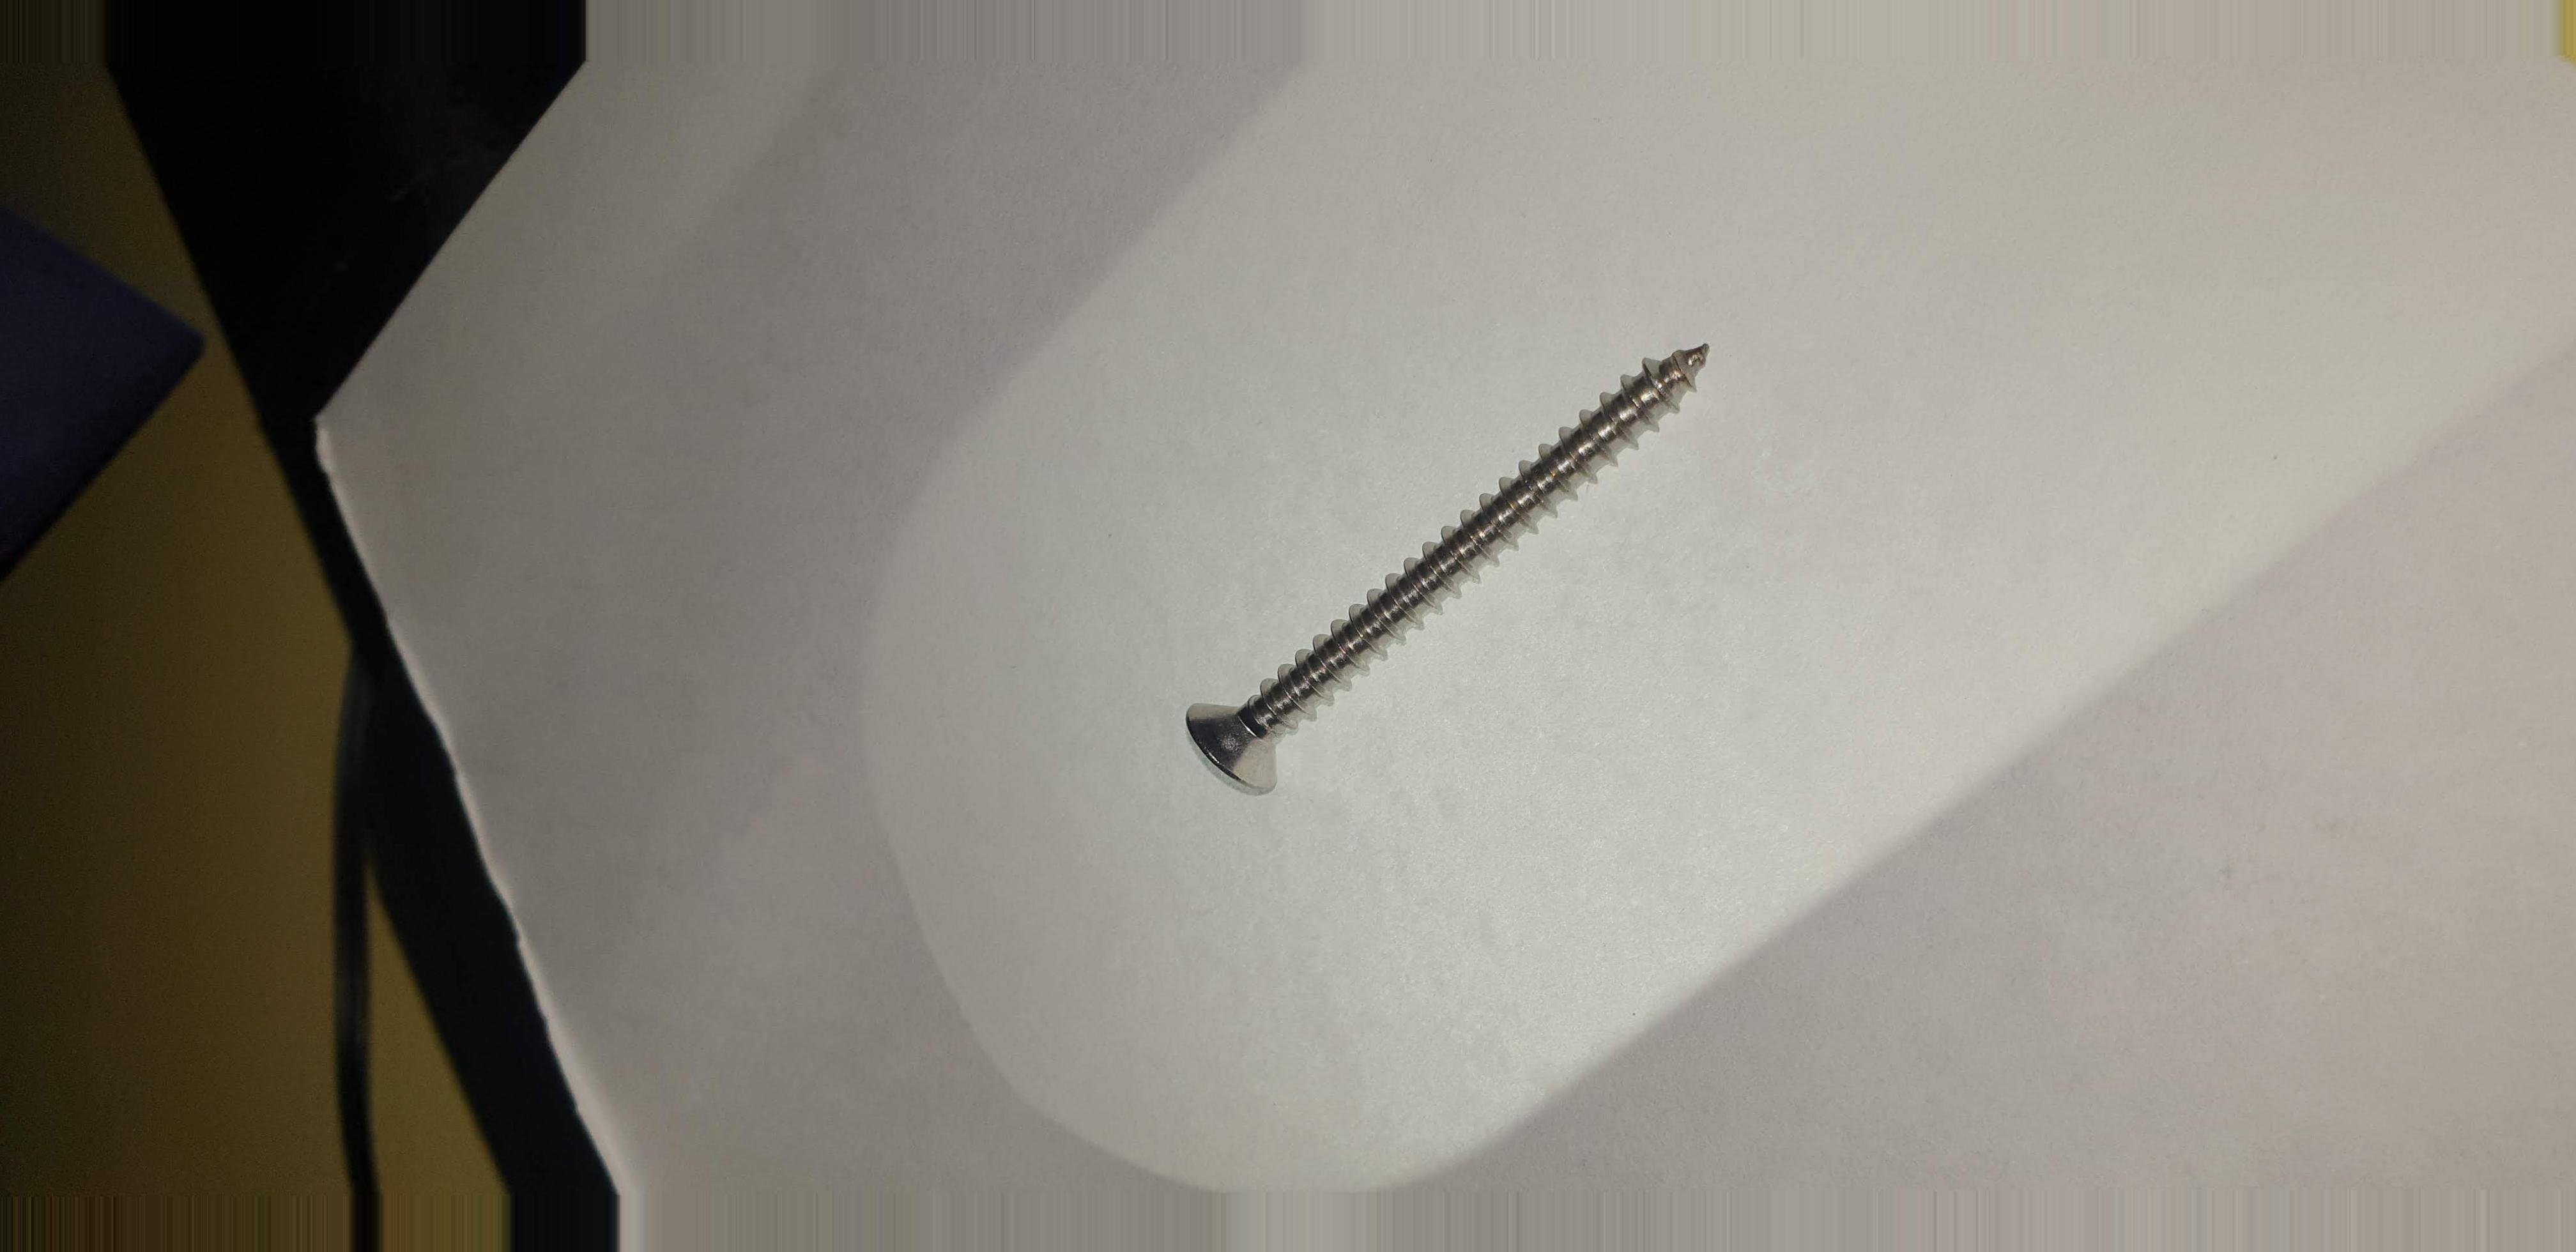fastener: (1045, 276, 1842, 897)
